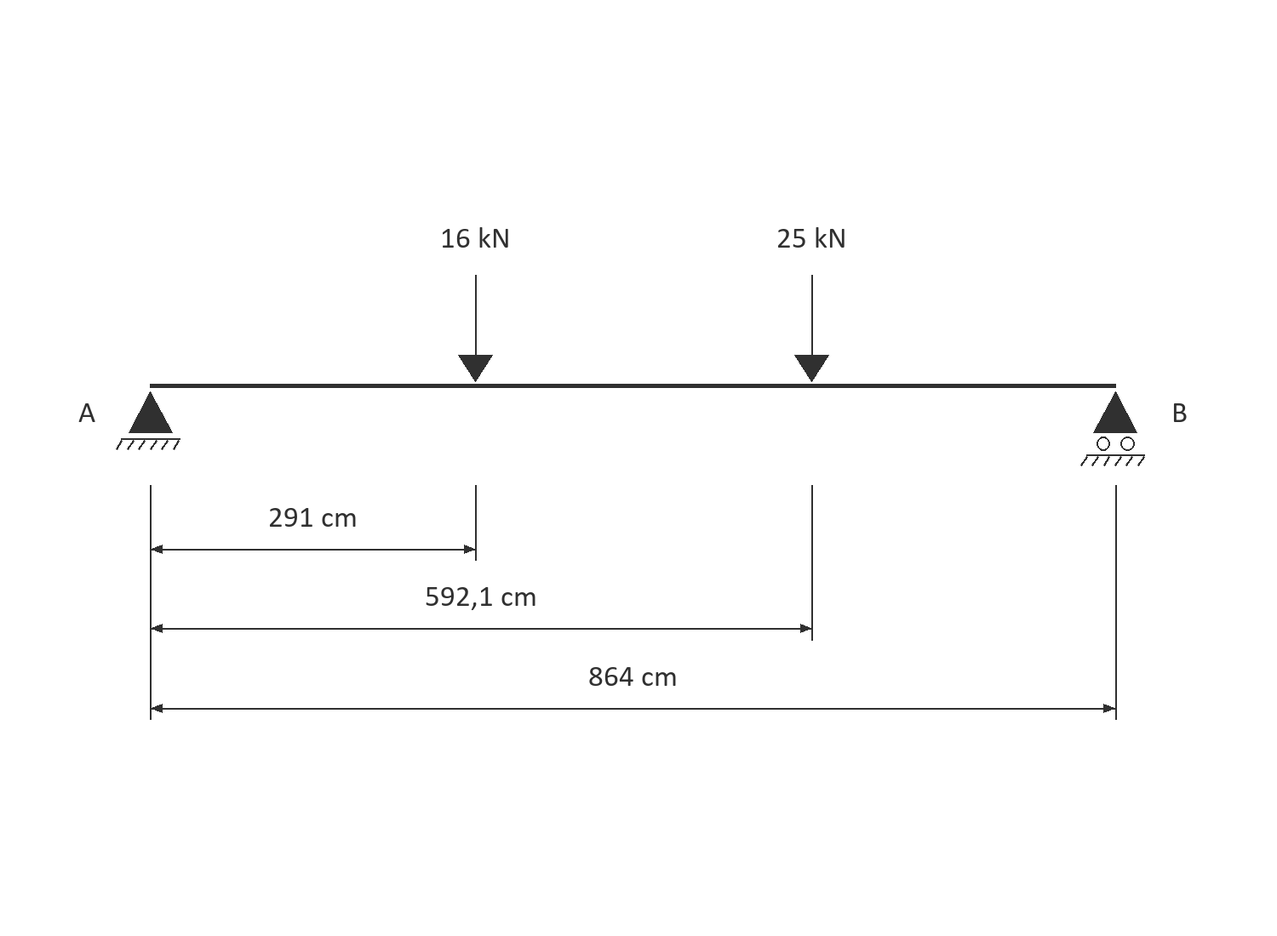pin_support: (116, 391, 180, 450)
point_load: (458, 275, 493, 382), (794, 275, 829, 382)
roller_support: (1080, 391, 1145, 466)
